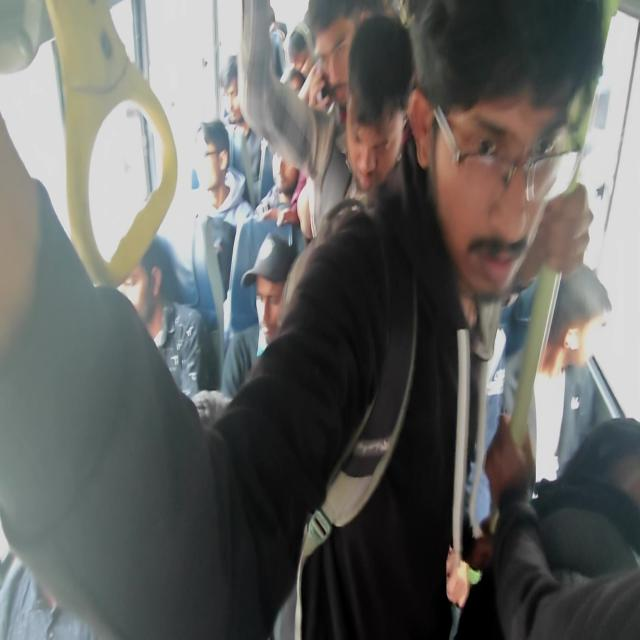person: (422, 20, 546, 286), (348, 49, 402, 177), (112, 237, 168, 343), (249, 242, 301, 353), (559, 260, 601, 376), (314, 14, 358, 102), (193, 100, 228, 196), (266, 134, 303, 199), (282, 66, 308, 117), (218, 70, 242, 121), (286, 35, 311, 74), (256, 0, 278, 35)
